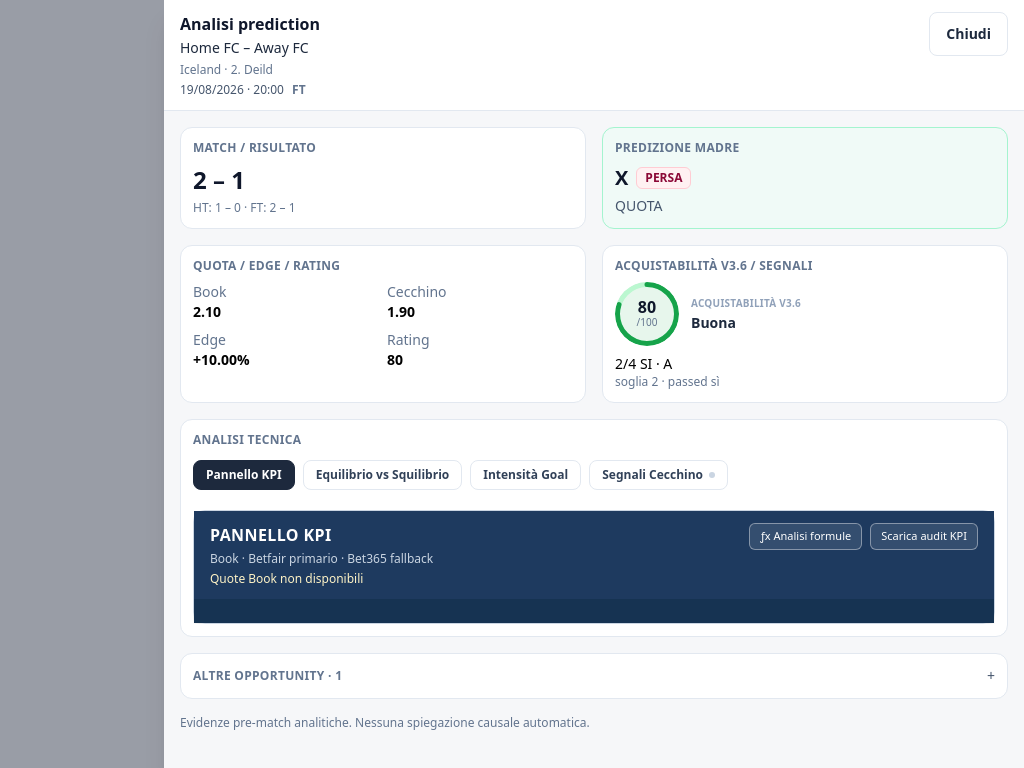
Test case: BetBuilderResultDetailDrawer › shows signals unavailable message when matrix missing
Click the tab with test id "technical-tab-signals". click: (659, 475)
box: [589,460,728,490]
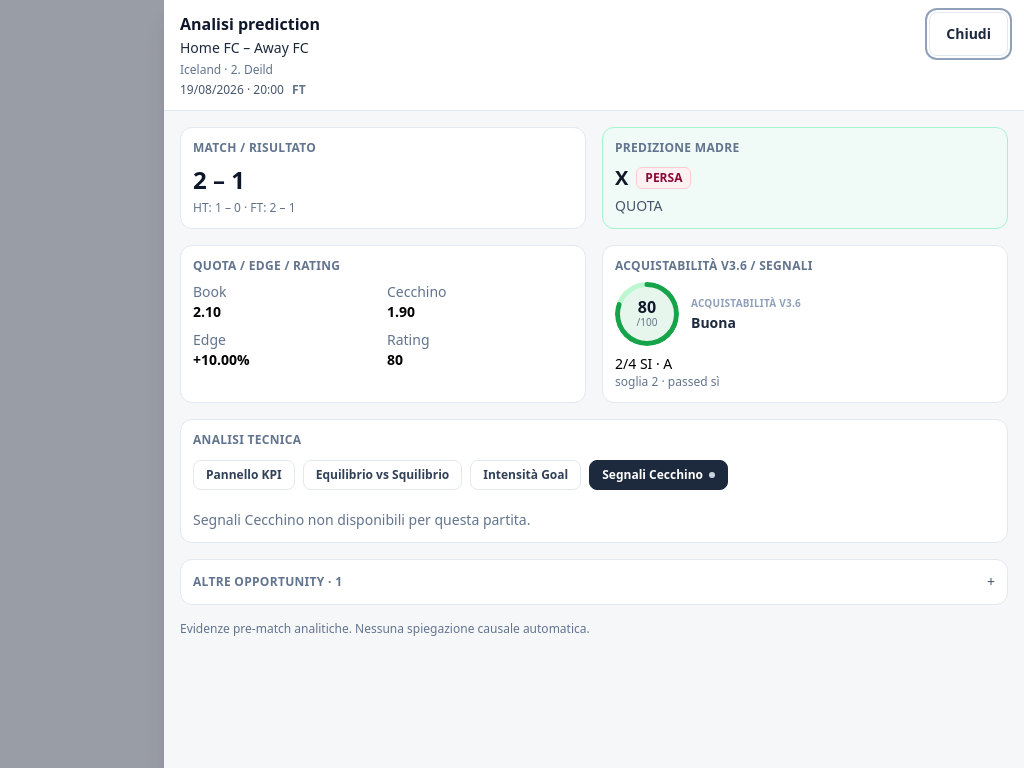
Expected: the text "Segnali Cecchino non disponibili per questa partita." is shown, [193,510,530,529]
